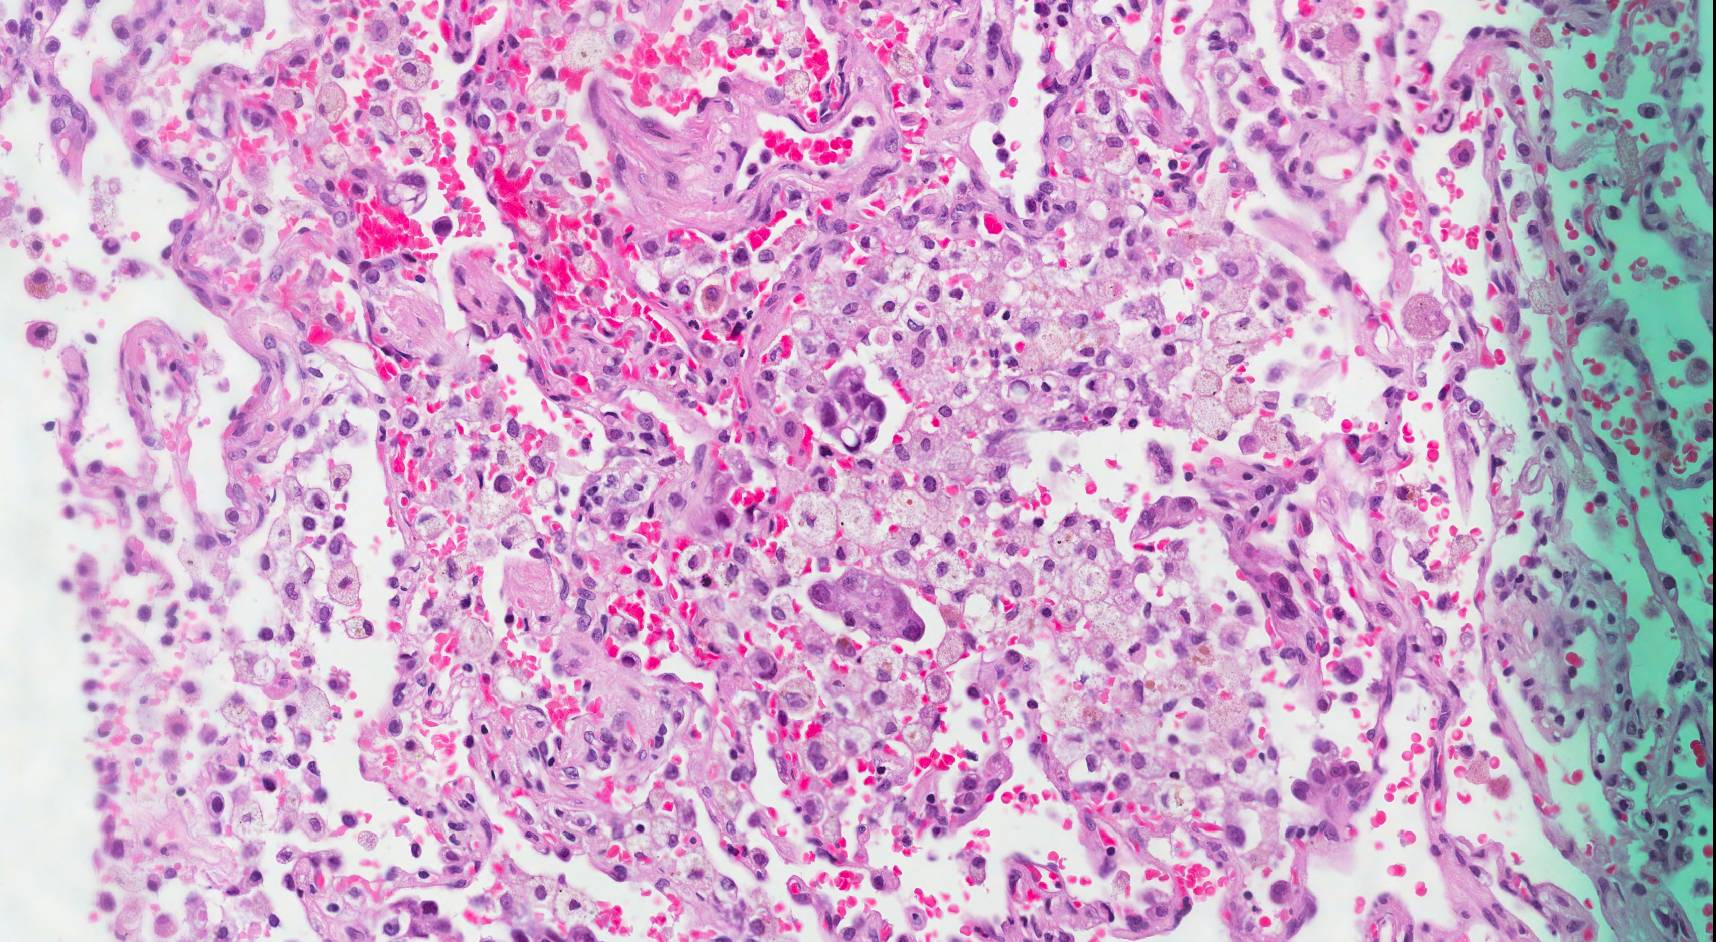stas: (808, 558, 932, 646), (814, 358, 893, 455)
